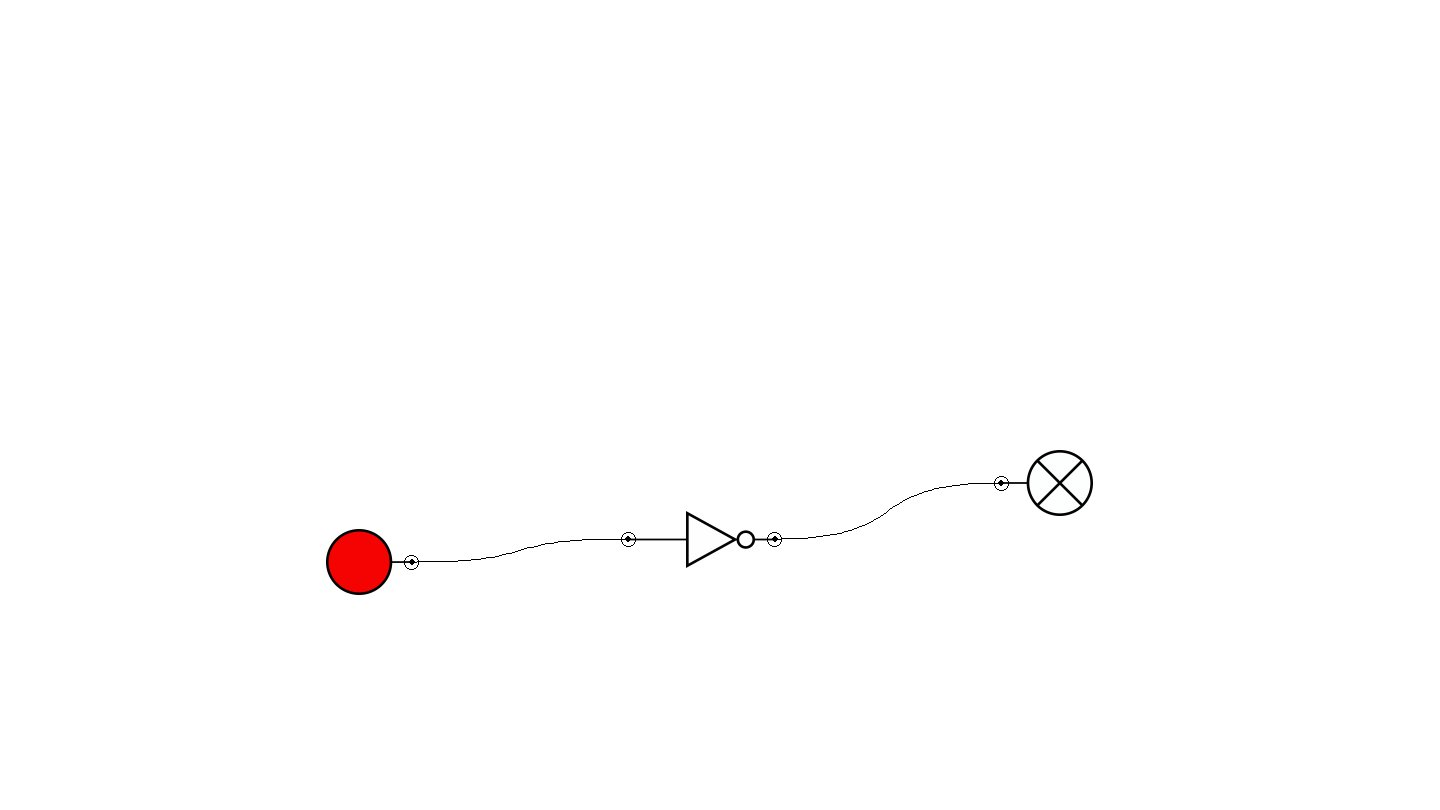bulb: (994, 450, 1093, 516)
not: (621, 511, 782, 568)
switch_False: (326, 529, 419, 595)
